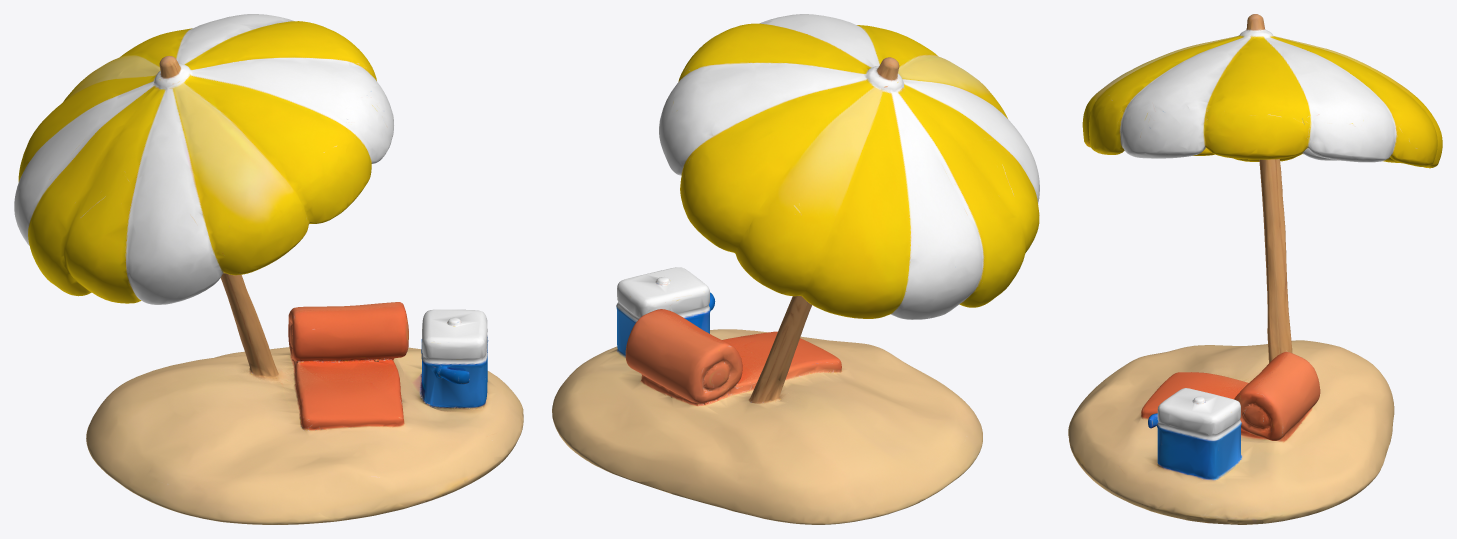
The model's file is 14ad375d-efd0-4559-8c50-22b2731d6c65.glb.
3 renders of one model, left to right at view 1: azimuth 30°, elevation 25°; view 2: azimuth 150°, elevation 25°; view 3: azimuth 270°, elevation 25°, orthographic. The views are drawn at different scales.
Parts seen in each view (by area): view 1: Mesh_0; view 2: Mesh_0; view 3: Mesh_0.
Part boxes in pixels (left/top/right/bottom): Mesh_0: left=14, top=14, right=523, bottom=524; Mesh_0: left=552, top=14, right=1039, bottom=524; Mesh_0: left=1068, top=14, right=1442, bottom=524.
Bounding box in the file's own units: 1.9 × 1.65 × 1.52.
Materials: 1 (1 with a texture image).
